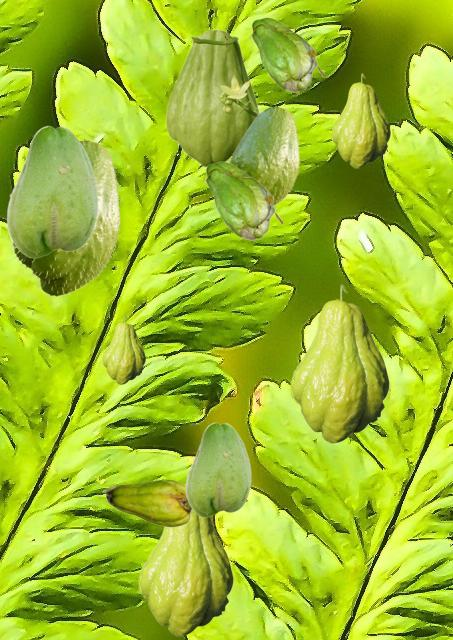sayote: (9, 139, 120, 297), (290, 284, 388, 442), (165, 29, 259, 168), (6, 125, 97, 257), (138, 509, 232, 635), (228, 106, 299, 206), (202, 161, 281, 240), (185, 422, 250, 516), (248, 17, 323, 92), (331, 73, 389, 167), (102, 479, 190, 526), (102, 315, 144, 383)
